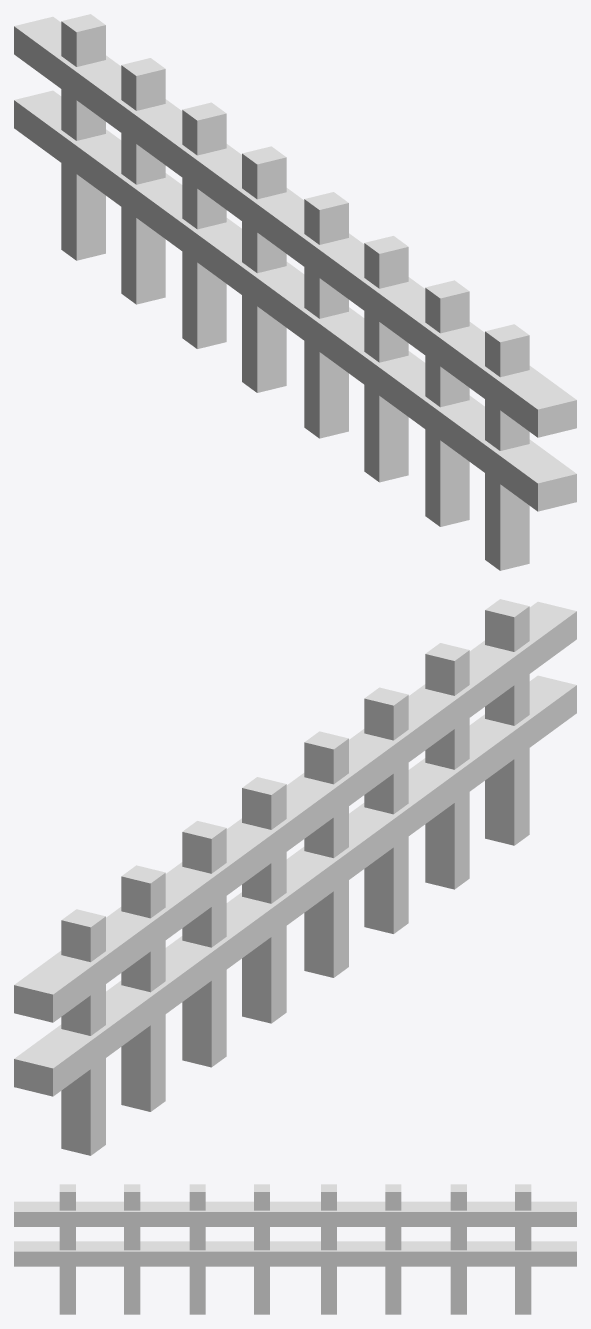
File: Fence.FBX
3 renders of one model, top to bottom at view 1: azimuth 30°, elevation 25°; view 2: azimuth 150°, elevation 25°; view 3: azimuth 270°, elevation 25°, orthographic. The views are drawn at different scales.
Visible parts, largest first — view 1: Box001; view 2: Box001; view 3: Box001.
Boxes of the visible parts, box(x1,y1,x2,y2) form: Box001: box(14, 14, 576, 570); Box001: box(14, 599, 576, 1155); Box001: box(14, 1184, 576, 1314).
Size of the model in its own units: 2.57 by 14.36 by 59.66.
Materials: 1 (1 with a texture image).
